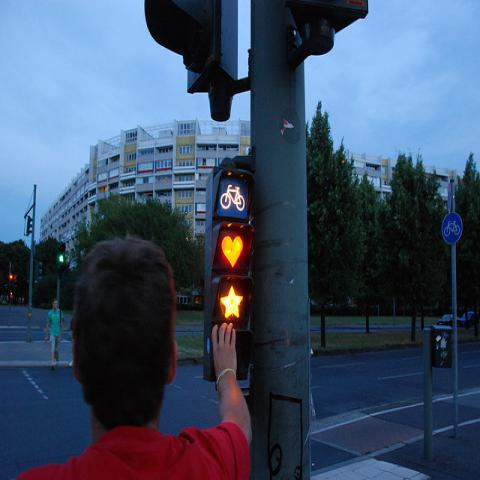car: (438, 314, 463, 328), (461, 311, 474, 327)
